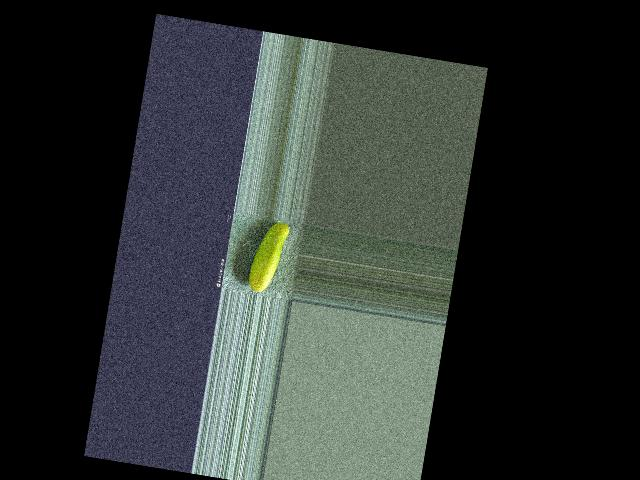cucumber: (246, 218, 290, 295)
